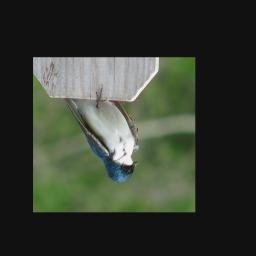Swallow: (63, 84, 140, 184)
